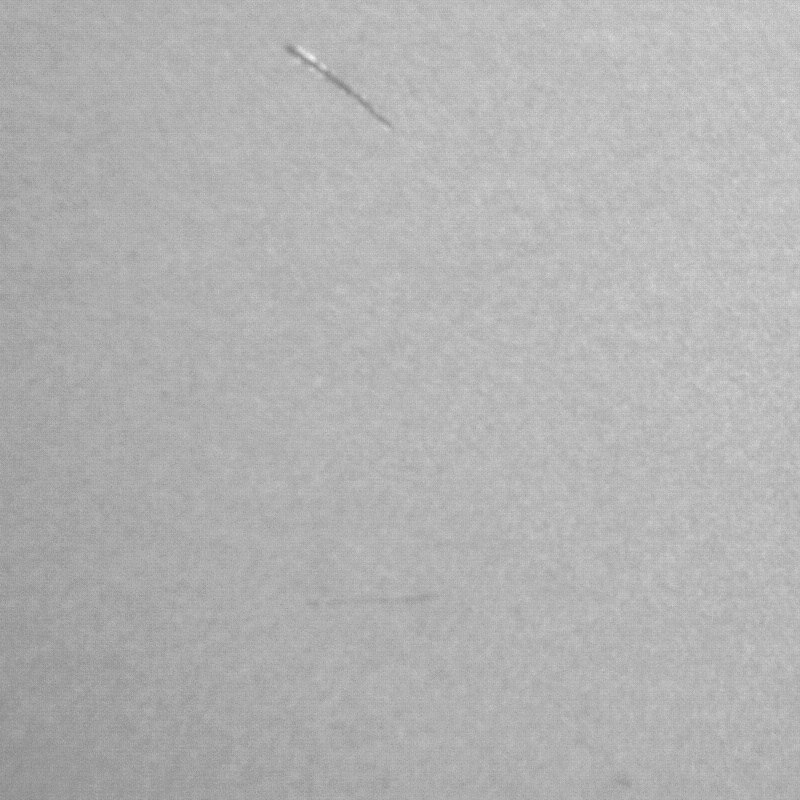defect: (294, 50, 409, 133), (316, 588, 434, 604)
